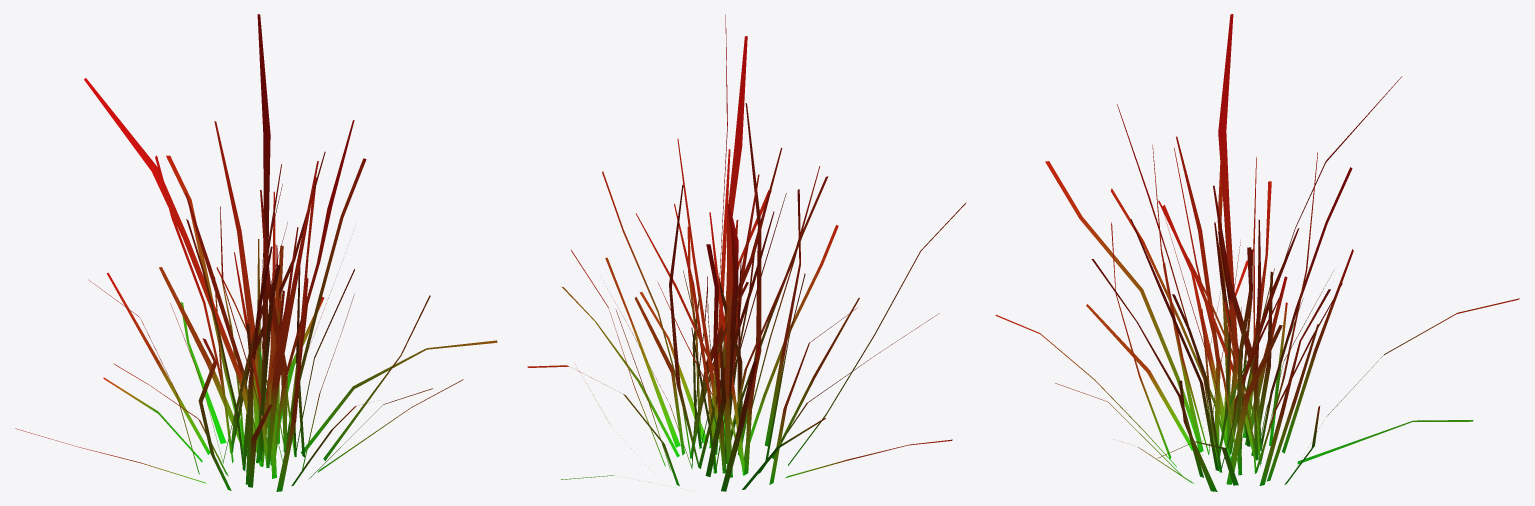
The model's file is ueyoebmia_Var2_LOD2.fbx.
The picture shows the model from 3 angles, left to right: view 1: azimuth 30°, elevation 25°; view 2: azimuth 150°, elevation 25°; view 3: azimuth 270°, elevation 25°; orthographic projection.
Parts seen in each view (by area): view 1: _6c53_Var2_LOD2; view 2: _6c53_Var2_LOD2; view 3: _6c53_Var2_LOD2.
Part boxes in pixels (x1,y1,x2,y2): _6c53_Var2_LOD2: (15,14,497,491); _6c53_Var2_LOD2: (527,14,966,491); _6c53_Var2_LOD2: (995,14,1519,491).
Size of the model in its own units: 25.38 by 25.16 by 26.58.
